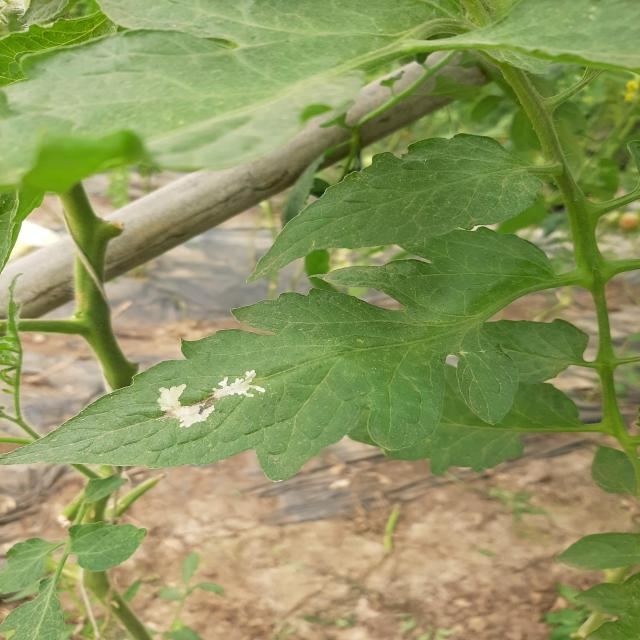Tuta absoluta: (153, 369, 269, 432)
